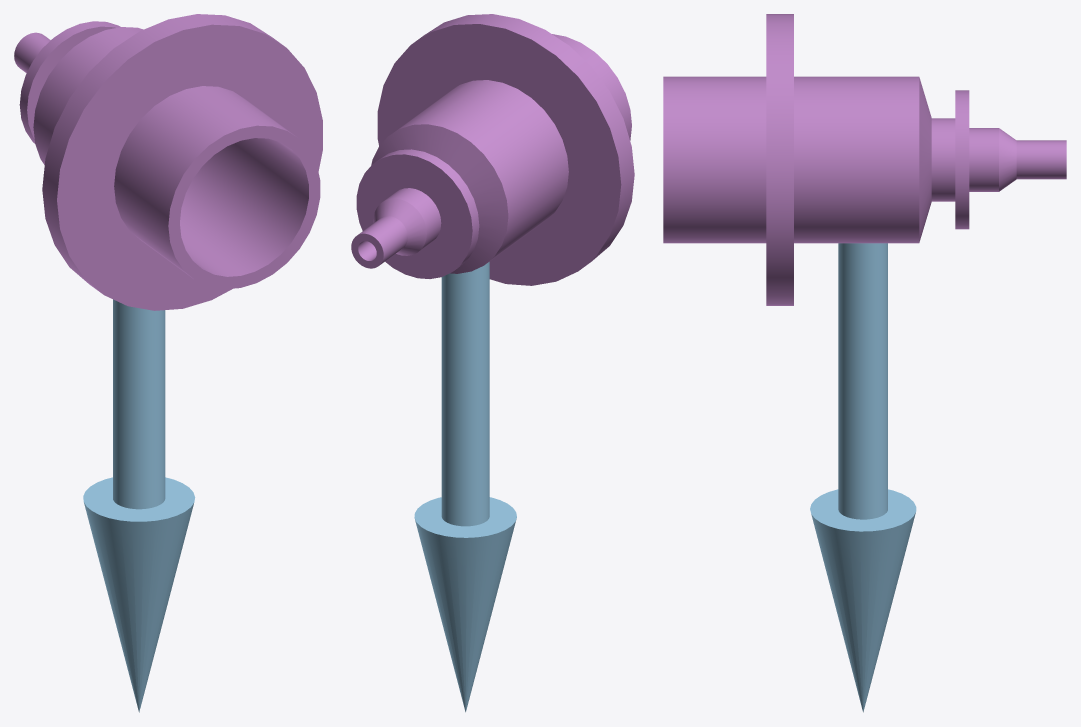
File: nozzleTip.obj
3 views of the same model, side by side, from view 1: azimuth 30°, elevation 25°; view 2: azimuth 150°, elevation 25°; view 3: azimuth 270°, elevation 25° (orthographic). The views are drawn at different scales.
Parts seen in each view (by area): view 1: mesh3, mesh6, mesh4, mesh19, mesh21, mesh2, mesh5, mesh0, mesh20, mesh15, mesh14, mesh10; view 2: mesh1, mesh19, mesh0, mesh21, mesh13, mesh17, mesh2, mesh20, mesh11, mesh4, mesh14, mesh10 (+2 smaller); view 3: mesh0, mesh4, mesh19, mesh21, mesh2, mesh20, mesh16, mesh14, mesh10, mesh12, mesh17, mesh11.
Boxes of the visible parts, left/top/right/bottom form: mesh3: left=57, top=24, right=322, bottom=310; mesh6: left=180, top=138, right=308, bottom=276; mesh4: left=114, top=86, right=297, bottom=278; mesh19: left=113, top=299, right=165, bottom=509; mesh21: left=84, top=502, right=193, bottom=712; mesh2: left=42, top=14, right=284, bottom=293; mesh5: left=168, top=125, right=320, bottom=289; mesh0: left=33, top=27, right=143, bottom=164; mesh20: left=83, top=477, right=195, bottom=521; mesh15: left=27, top=26, right=115, bottom=138; mesh14: left=19, top=21, right=120, bottom=143; mesh10: left=14, top=32, right=50, bottom=72; mesh1: left=377, top=24, right=621, bottom=285; mesh19: left=441, top=262, right=489, bottom=526; mesh0: left=390, top=80, right=568, bottom=264; mesh21: left=415, top=519, right=516, bottom=712; mesh13: left=356, top=154, right=472, bottom=278; mesh17: left=371, top=124, right=508, bottom=273; mesh2: left=413, top=14, right=634, bottom=270; mesh20: left=414, top=497, right=516, bottom=537; mesh11: left=373, top=198, right=426, bottom=255; mesh4: left=552, top=34, right=631, bottom=140; mesh14: left=375, top=149, right=479, bottom=270; mesh10: left=358, top=216, right=407, bottom=265; mesh0: left=794, top=76, right=919, bottom=243; mesh4: left=663, top=76, right=766, bottom=243; mesh19: left=838, top=243, right=887, bottom=519; mesh21: left=811, top=512, right=915, bottom=712; mesh2: left=766, top=14, right=793, bottom=305; mesh20: left=810, top=489, right=916, bottom=531; mesh16: left=931, top=118, right=955, bottom=201; mesh14: left=955, top=90, right=969, bottom=229; mesh10: left=1016, top=140, right=1066, bottom=179; mesh12: left=969, top=128, right=998, bottom=191; mesh17: left=919, top=77, right=931, bottom=242; mesh11: left=999, top=128, right=1016, bottom=191.
Size of the model in its own units: 0.0105 by 0.0272 by 0.0145.
